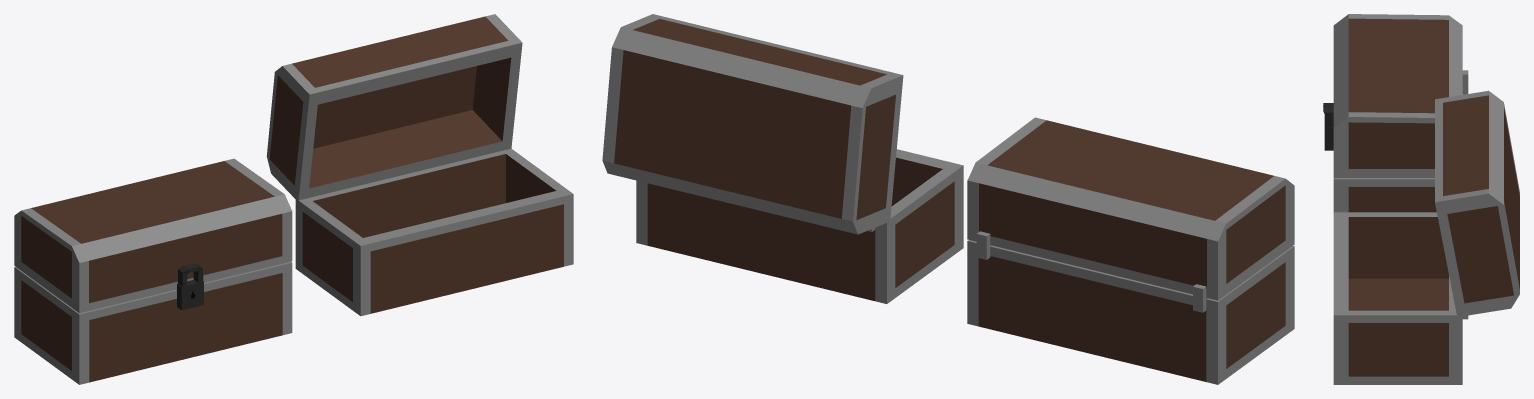
The model's file is Chests.glb.
3 views of the same model, side by side, from view 1: azimuth 30°, elevation 25°; view 2: azimuth 150°, elevation 25°; view 3: azimuth 270°, elevation 25° (orthographic). The views are drawn at different scales.
Visible parts, largest first — view 1: UnlockedChest, LockedChest; view 2: UnlockedChest, LockedChest; view 3: UnlockedChest, LockedChest.
Part boxes in pixels (box(x1,y1,x2,y2)): UnlockedChest: box(266, 14, 573, 316); LockedChest: box(14, 158, 292, 384); UnlockedChest: box(602, 14, 963, 303); LockedChest: box(967, 117, 1294, 384); UnlockedChest: box(1333, 90, 1519, 384); LockedChest: box(1323, 14, 1468, 212).
Bounding box in the file's own units: 8.78 × 3.28 × 3.05.
